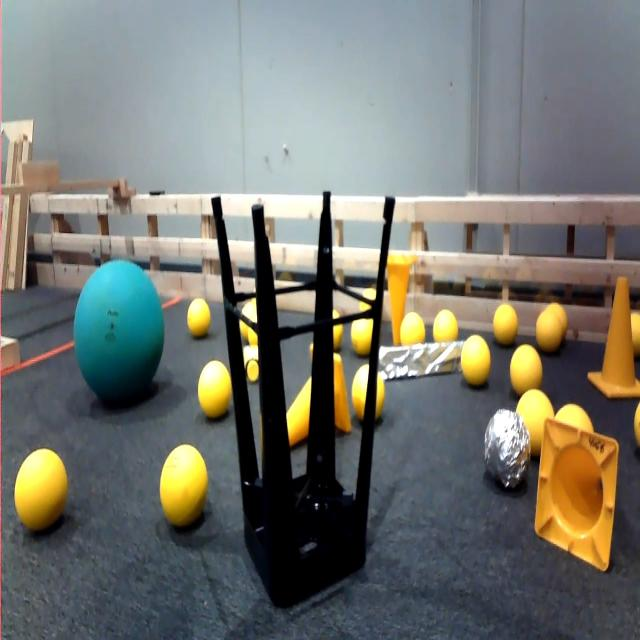fuel: (12, 445, 70, 528), (156, 440, 212, 525), (513, 388, 559, 451), (198, 357, 234, 430), (347, 361, 386, 428), (508, 337, 546, 403), (459, 330, 496, 391), (550, 394, 598, 437), (353, 302, 382, 368), (318, 304, 348, 353), (491, 296, 523, 340), (186, 291, 213, 343), (534, 310, 562, 355), (400, 302, 427, 348), (431, 304, 460, 340), (549, 295, 577, 330), (357, 282, 382, 319), (247, 308, 265, 352), (630, 387, 640, 444), (631, 302, 640, 358), (238, 298, 250, 338)
